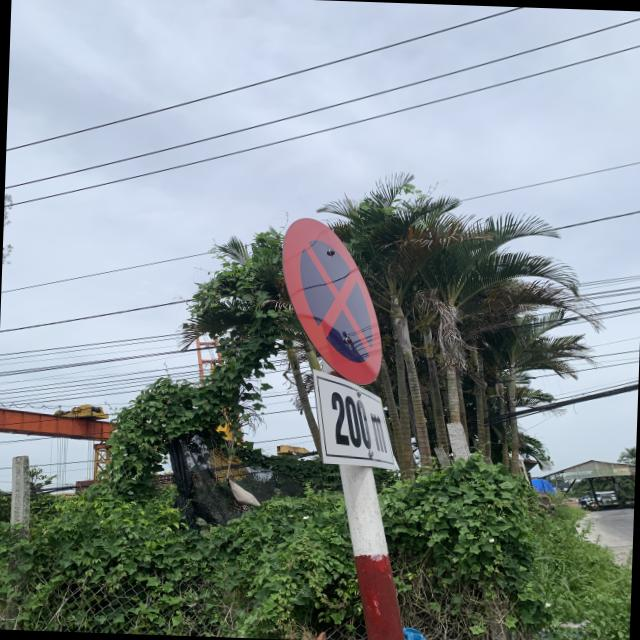Cam_Dung_Va_Dau_Xe: (276, 218, 389, 386)
